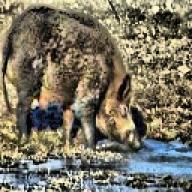boar: (0, 2, 147, 152)
